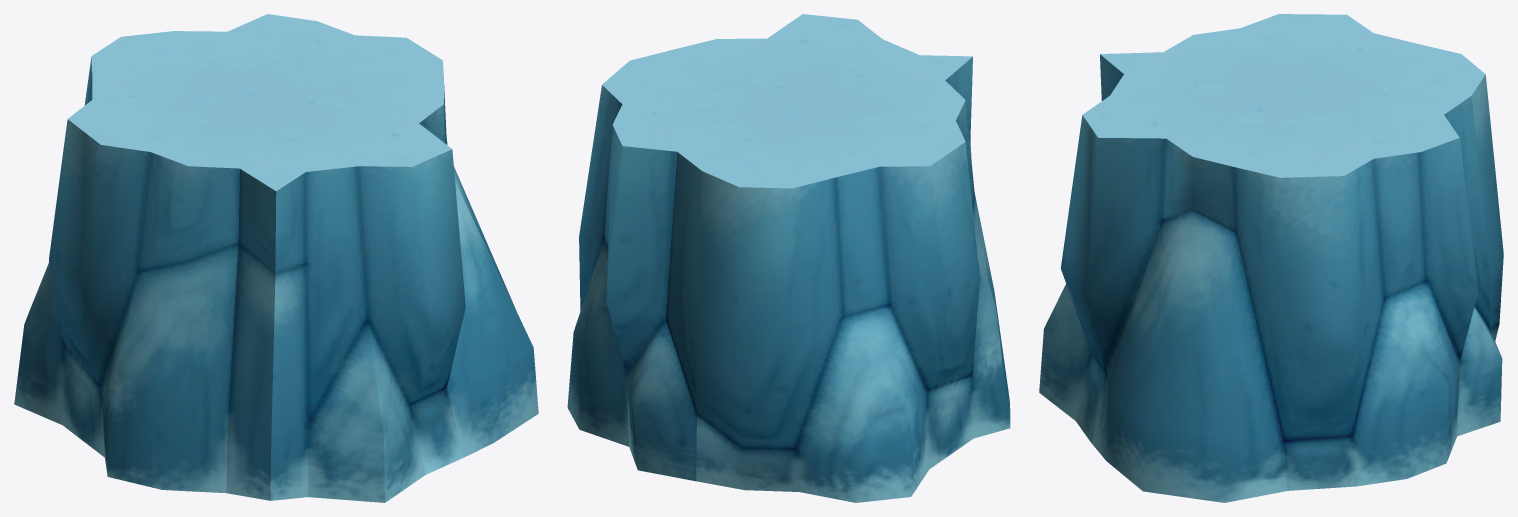
The model's file is Rock_Platform.fbx.
The picture shows the model from 3 angles, left to right: view 1: azimuth 30°, elevation 25°; view 2: azimuth 150°, elevation 25°; view 3: azimuth 270°, elevation 25°; orthographic projection. The views are drawn at different scales.
Parts seen in each view (by area): view 1: Rock_Platform; view 2: Rock_Platform; view 3: Rock_Platform.
Boxes of the visible parts, <box> form: Rock_Platform: <box>14,14,538,502</box>; Rock_Platform: <box>567,14,1010,502</box>; Rock_Platform: <box>1039,14,1503,502</box>.
Size of the model in its own units: 2.58 by 1.84 by 2.57.
Materials: 1 (1 with a texture image).
